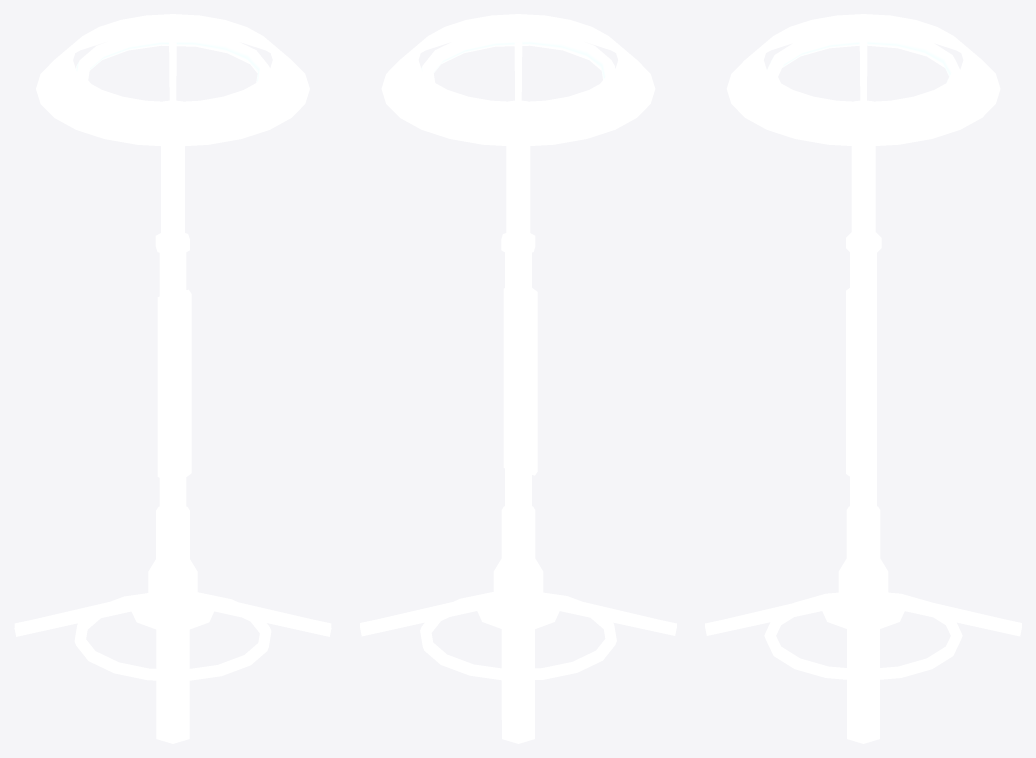
The model's file is Household_Assets_Lamp_2.glb.
The picture shows the model from 3 angles, left to right: view 1: azimuth 30°, elevation 25°; view 2: azimuth 150°, elevation 25°; view 3: azimuth 270°, elevation 25°; orthographic projection.
Parts seen in each view (by area): view 1: Lamp_2; view 2: Lamp_2; view 3: Lamp_2.
Part boxes in pixels (x1,y1,x2,y2): Lamp_2: [14, 14, 331, 743]; Lamp_2: [360, 14, 676, 743]; Lamp_2: [705, 14, 1021, 743].
Size of the model in its own units: 0.8289 by 1.74 by 0.821.
